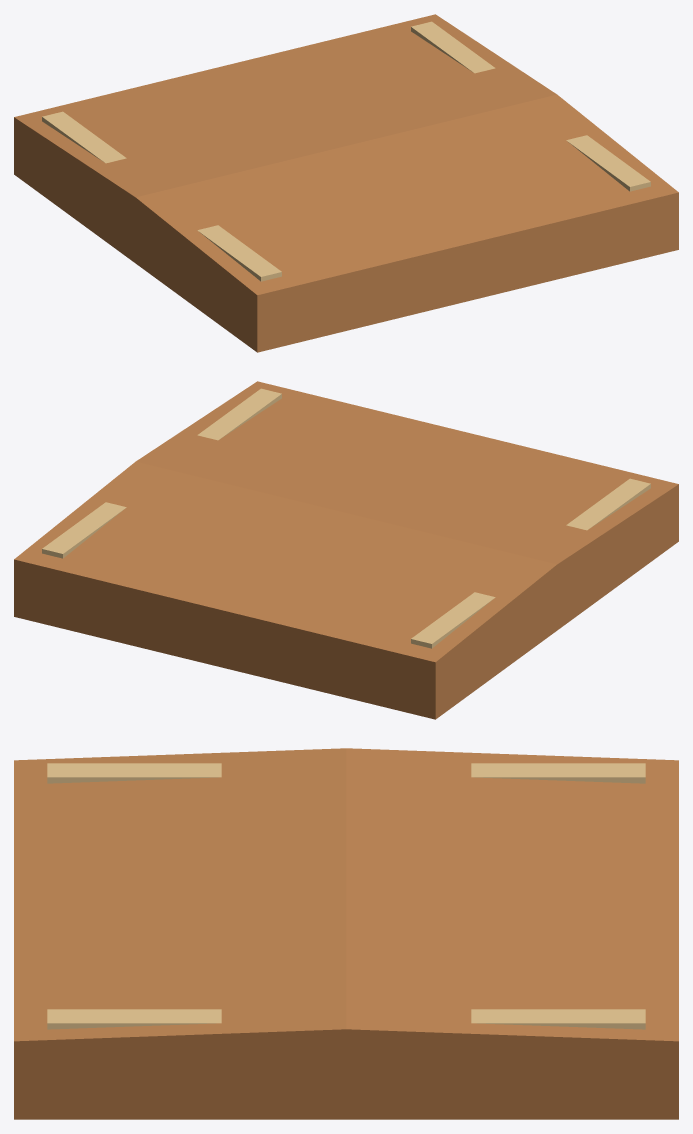
File: plank_1_6.glb
3 renders of one model, top to bottom at view 1: azimuth 30°, elevation 25°; view 2: azimuth 150°, elevation 25°; view 3: azimuth 270°, elevation 25°, orthographic. The views are drawn at different scales.
Parts seen in each view (by area): view 1: plank; view 2: plank; view 3: plank.
Boxes of the visible parts, x1=… form: plank: x1=14, y1=14, x2=678, y2=352; plank: x1=14, y1=381, x2=678, y2=719; plank: x1=14, y1=748, x2=678, y2=1119.
Size of the model in its own units: 0.04 by 0.006 by 0.04.
